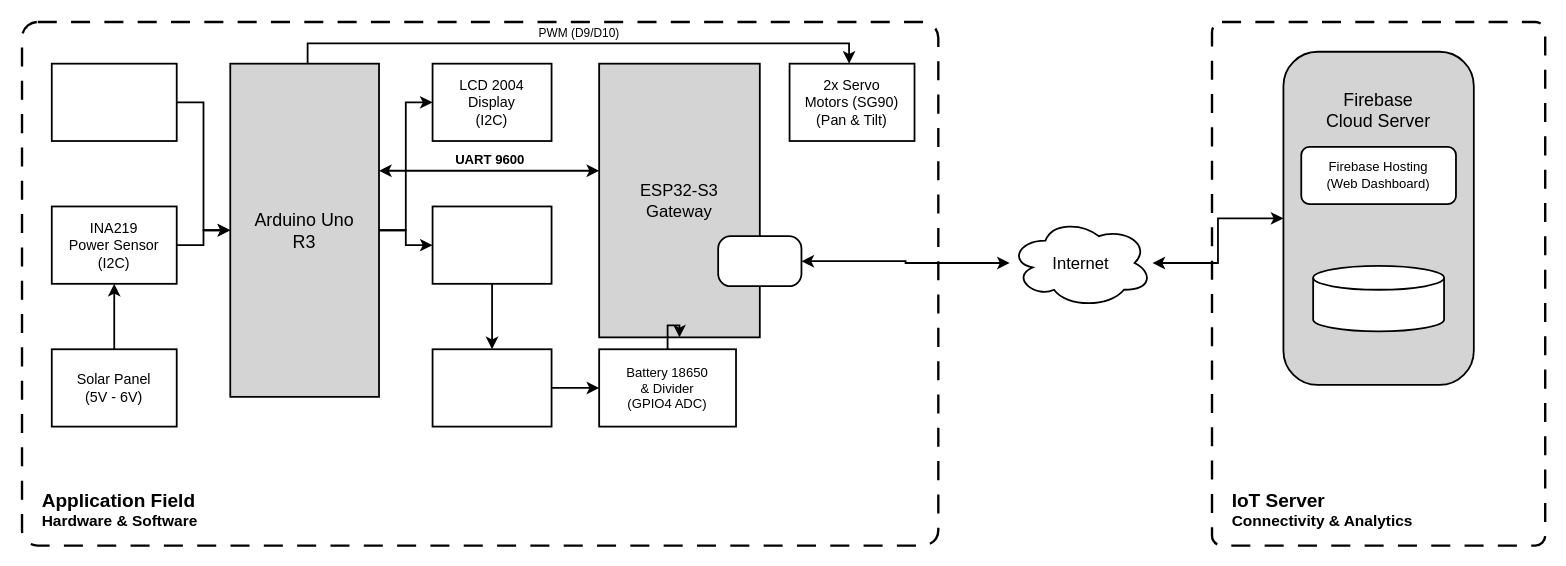
Some shapes in this 1566 by 566 pixel diagram are drawn without their labels. The centre of each missing label's shape, as x and y in pixels:
"4x LDR Sensors (A0 - A3)" belongs at point 113,101.
"Realtime DB (/device/tele)" belongs at point 1378,298.
"Relay Module (D7)" belongs at point 491,244.
"TP4056 Charger" belongs at point 491,387.
"Wi-Fi" belongs at point 759,261.
